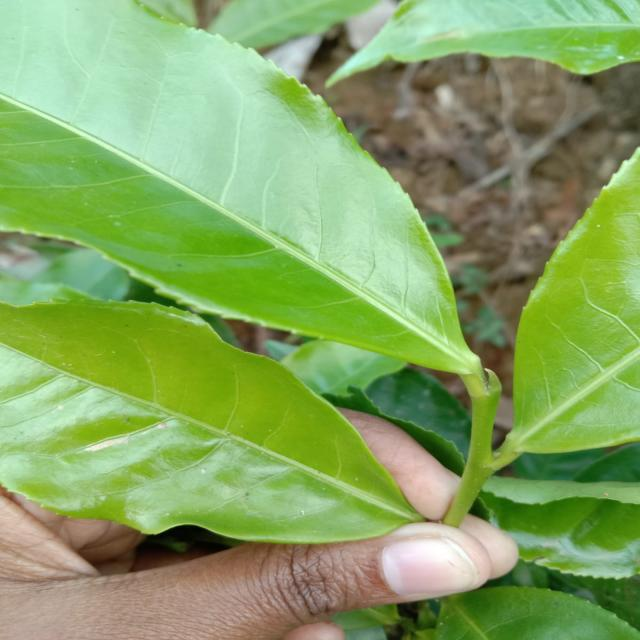Category C(4-7 days): (0, 288, 448, 556)
